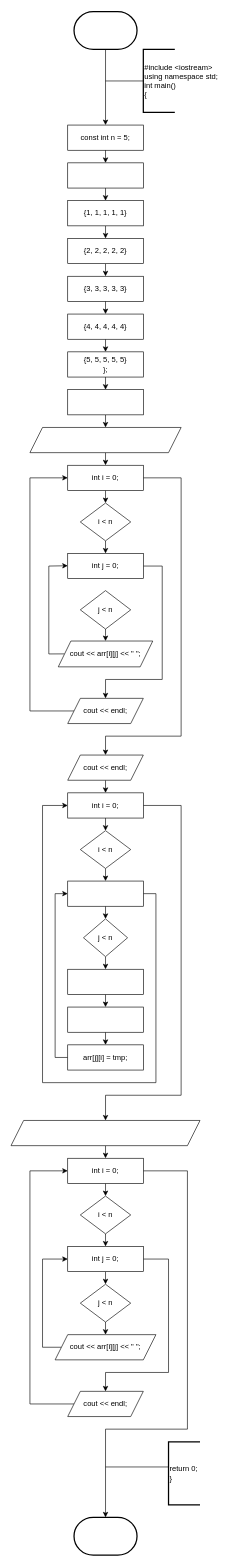
Image size: 229x1566. Some labels were removed from this diagram. Each missing label, with the centre of its shape:
arr[i][j] = arr[j][i];: [105,1019]
cout << "Исходная матрица:" << endl;: [105,440]
cout << "Транспонированная матрица:" << endl;: [105,1133]
int arr[n][n] = {: [105,175]
int j = i + 1;: [105,893]
int tmp;: [105,402]
tmp = arr[i][j];: [105,981]
Начало: [105,30]
